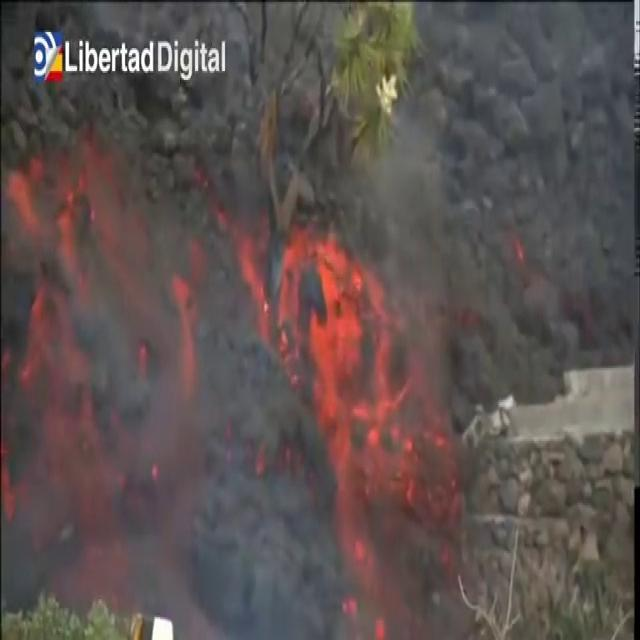Fire: (259, 215, 432, 583)
